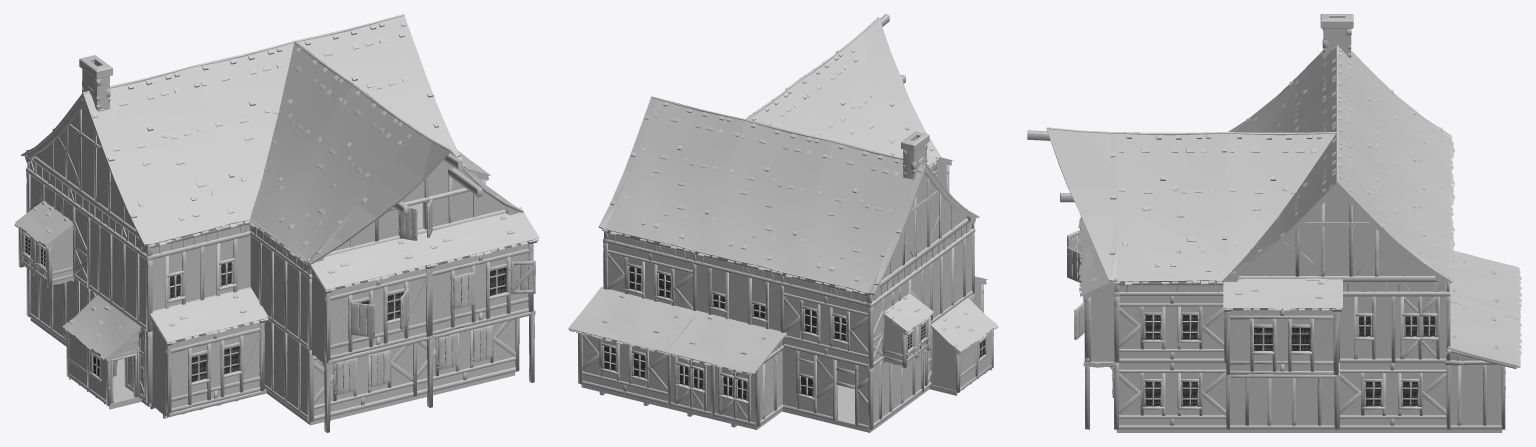
File: House_4.fbx
The picture shows the model from 3 angles, left to right: view 1: azimuth 30°, elevation 25°; view 2: azimuth 150°, elevation 25°; view 3: azimuth 270°, elevation 25°; orthographic projection. The views are drawn at different scales.
Visible parts, largest first — view 1: StaticMeshComponent02, StaticMeshComponent09, StaticMeshComponent04, StaticMeshComponent011, StaticMeshComponent010, StaticMeshComponent019, StaticMeshComponent01, StaticMeshComponent06, StaticMeshComponent017, StaticMeshComponent012, StaticMeshComponent033, StaticMeshComponent037 (+21 smaller); view 2: StaticMeshComponent07, StaticMeshComponent015, StaticMeshComponent03, StaticMeshComponent09, StaticMeshComponent01, StaticMeshComponent039, StaticMeshComponent044, StaticMeshComponent018, StaticMeshComponent013, StaticMeshComponent037, StaticMeshComponent092, StaticMeshComponent088 (+12 smaller); view 3: StaticMeshComponent016, StaticMeshComponent020, StaticMeshComponent022, StaticMeshComponent014, StaticMeshComponent027, StaticMeshComponent028, StaticMeshComponent025, StaticMeshComponent010, StaticMeshComponent015, StaticMeshComponent07, StaticMeshComponent099, StaticMeshComponent03 (+11 smaller).
Part boxes in pixels (x1,y1,x2,y2): StaticMeshComponent02: (97, 66, 251, 259); StaticMeshComponent09: (248, 84, 412, 275); StaticMeshComponent04: (150, 287, 268, 418); StaticMeshComponent011: (307, 234, 437, 365); StaticMeshComponent010: (306, 127, 523, 279); StaticMeshComponent019: (420, 207, 539, 341); StaticMeshComponent01: (21, 91, 152, 260); StaticMeshComponent06: (192, 41, 294, 213); StaticMeshComponent017: (295, 16, 448, 148); StaticMeshComponent012: (251, 41, 353, 213); StaticMeshComponent033: (14, 175, 90, 288); StaticMeshComponent037: (62, 295, 140, 405); StaticMeshComponent07: (689, 119, 832, 285); StaticMeshComponent015: (601, 97, 744, 263); StaticMeshComponent03: (777, 140, 914, 306); StaticMeshComponent09: (796, 45, 937, 173); StaticMeshComponent01: (866, 162, 979, 307); StaticMeshComponent039: (783, 286, 873, 368); StaticMeshComponent044: (782, 347, 873, 430); StaticMeshComponent018: (568, 287, 696, 353); StaticMeshComponent013: (656, 308, 786, 375); StaticMeshComponent037: (930, 297, 998, 392); StaticMeshComponent092: (582, 333, 670, 405); StaticMeshComponent088: (607, 243, 696, 310); StaticMeshComponent016: (1113, 132, 1226, 295); StaticMeshComponent020: (1222, 178, 1451, 296); StaticMeshComponent022: (1223, 277, 1342, 380); StaticMeshComponent014: (1227, 132, 1336, 280); StaticMeshComponent027: (1340, 362, 1450, 429); StaticMeshComponent028: (1119, 362, 1229, 429); StaticMeshComponent025: (1119, 296, 1224, 362); StaticMeshComponent010: (1027, 127, 1119, 296); StaticMeshComponent015: (1337, 132, 1454, 289); StaticMeshComponent07: (1337, 85, 1454, 234); StaticMeshComponent099: (1230, 378, 1339, 429); StaticMeshComponent03: (1337, 45, 1454, 188).
Size of the model in its own units: 2236 by 1753 by 2694.
